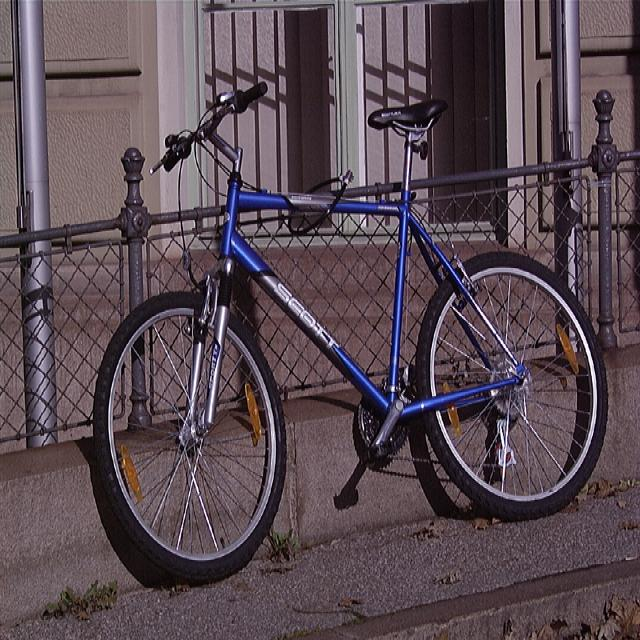bicycle: (90, 80, 608, 588)
